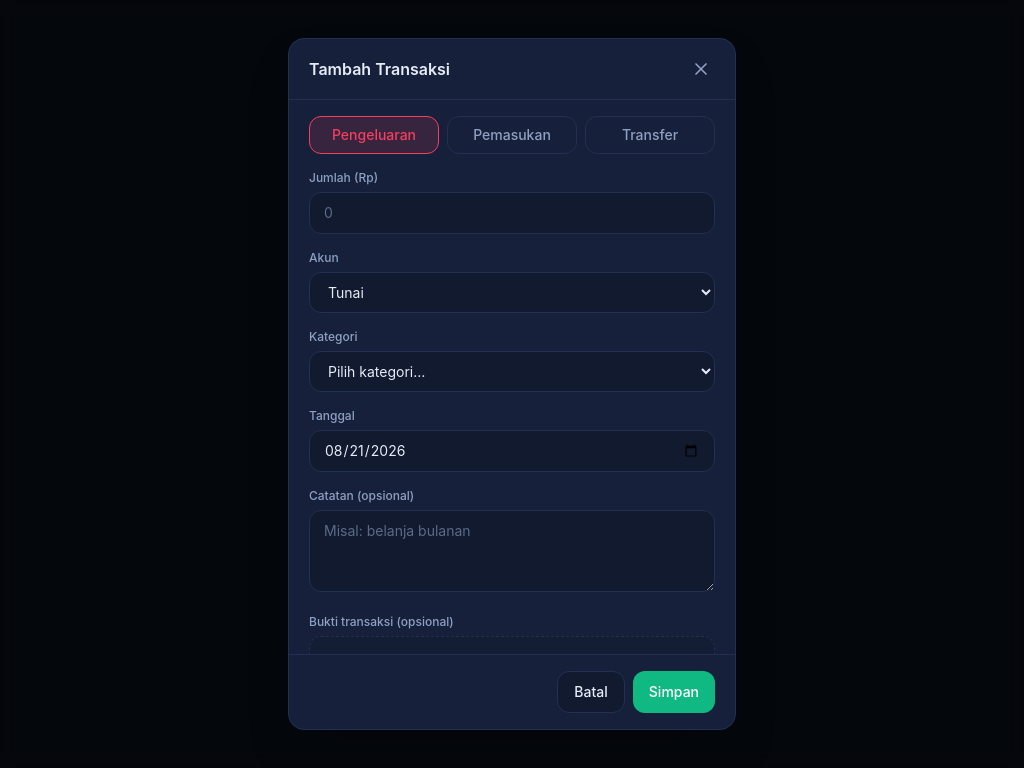
Scenario: TransactionForm › clears a wrong-type category when switching between income and expense
Select "Makanan" in the dropdown labelled "Kategori" at [512, 372], box x1=309 y1=351 x2=715 y2=392
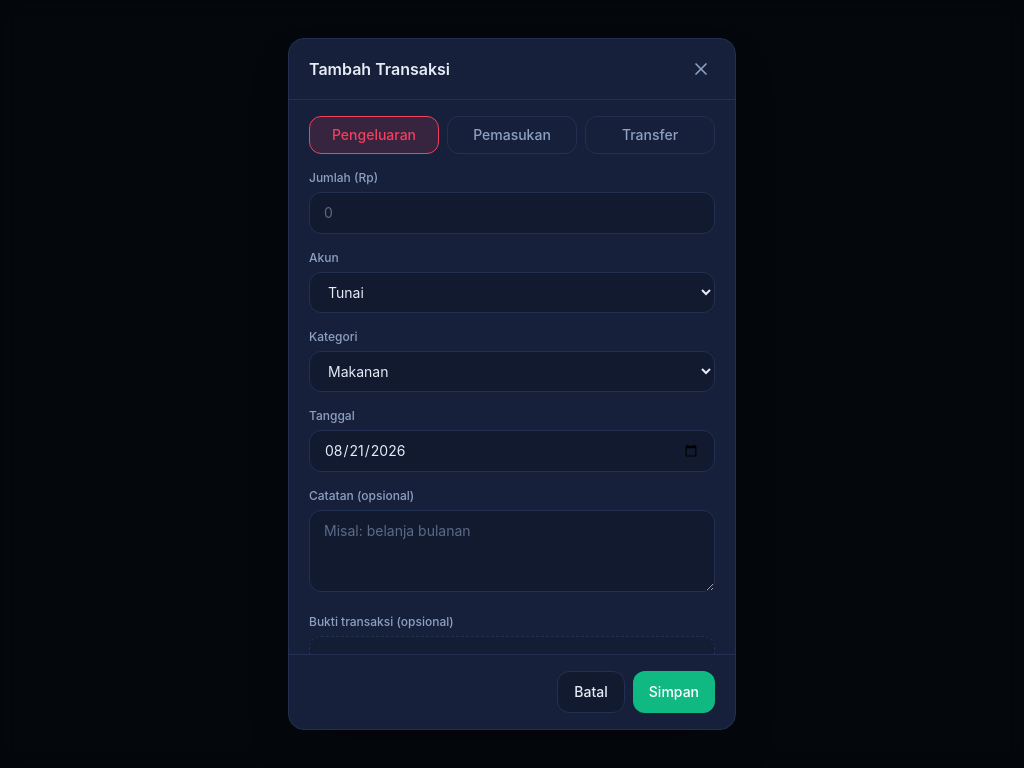
Click the button "Pemasukan" at [512, 135], box x1=447 y1=116 x2=577 y2=154
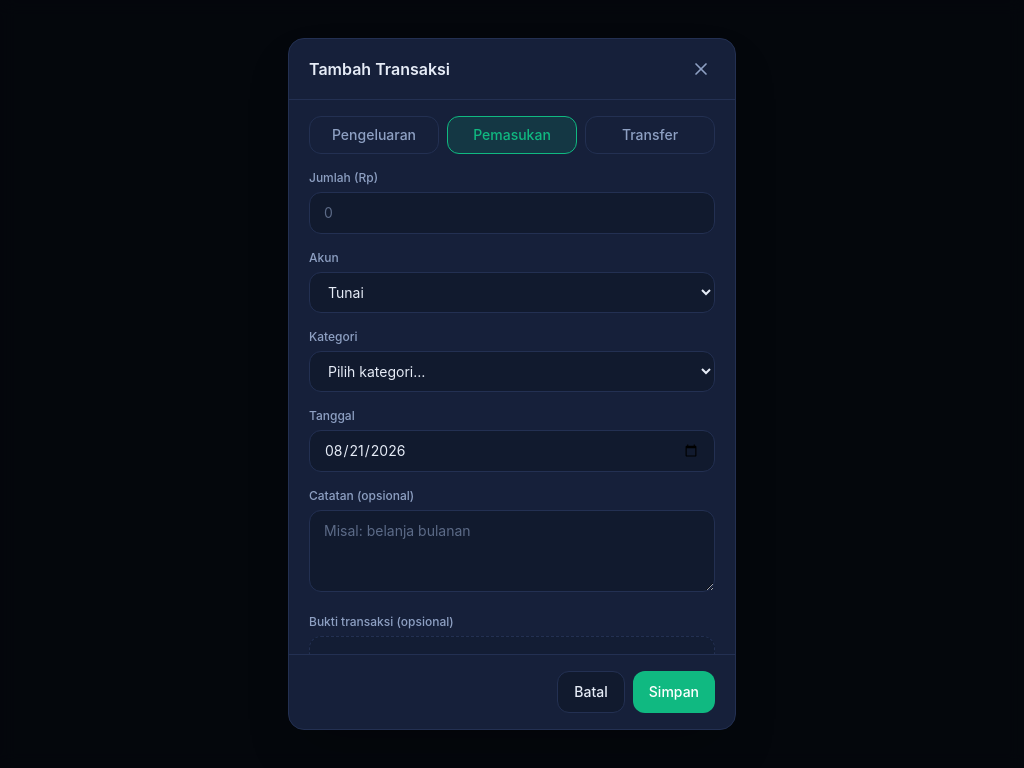
Submit the form with id "tx-form", box x1=309 y1=116 x2=715 y2=706
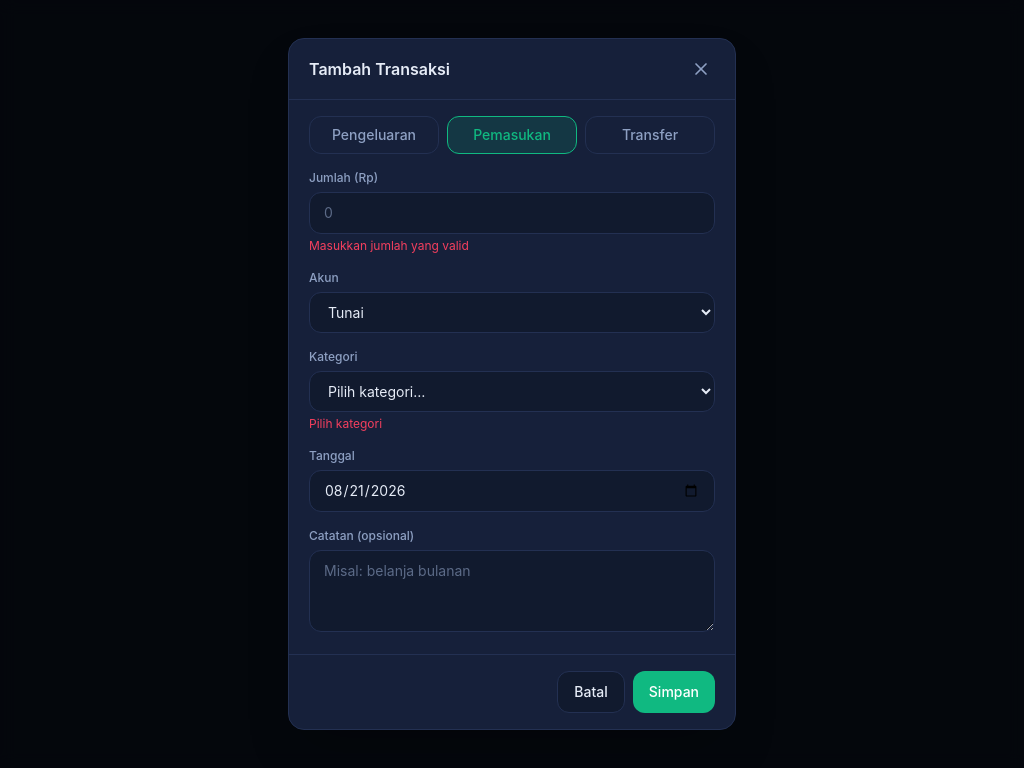
Expected: the text "Pilih kategori" is shown, x1=309 y1=416 x2=382 y2=431
